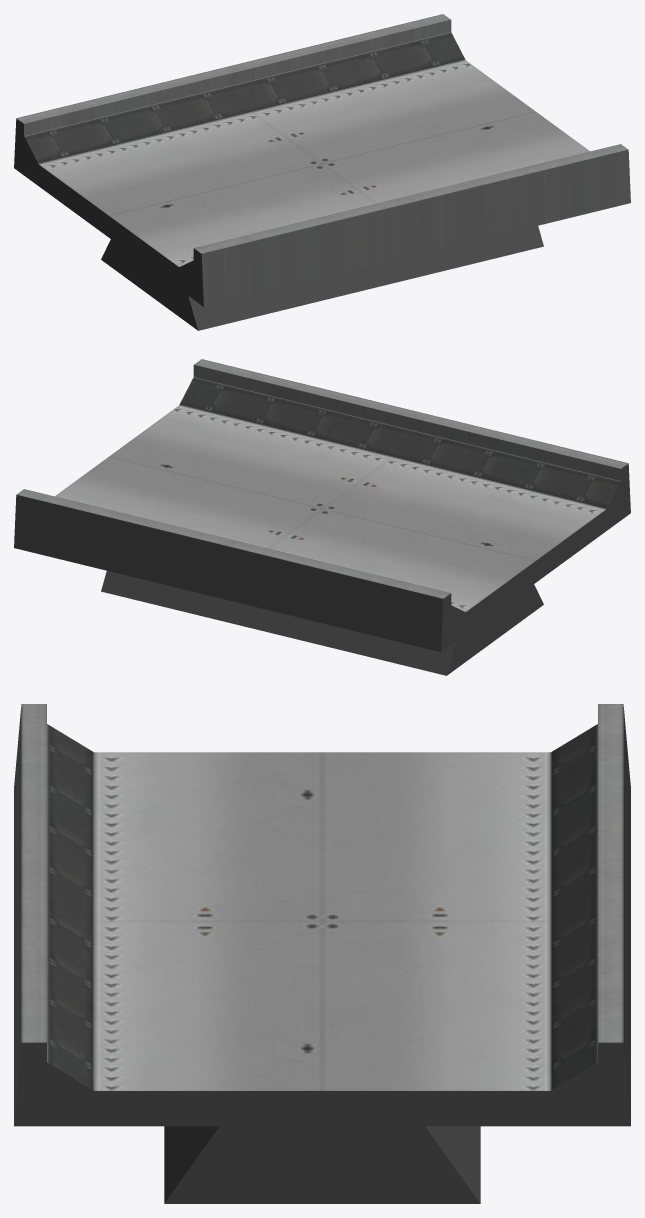
The model's file is road_X-printer.glb.
3 views of the same model, one above another, from view 1: azimuth 30°, elevation 25°; view 2: azimuth 150°, elevation 25°; view 3: azimuth 270°, elevation 25° (orthographic). The views are drawn at different scales.
Parts seen in each view (by area): view 1: Plane; view 2: Plane; view 3: Plane.
Part boxes in pixels (x1,y1,x2,y2): Plane: (14, 14, 630, 330); Plane: (14, 359, 630, 675); Plane: (14, 704, 630, 1203).
Size of the model in its own units: 10 by 2.67 by 7.71.
1 material, 1 textured.
